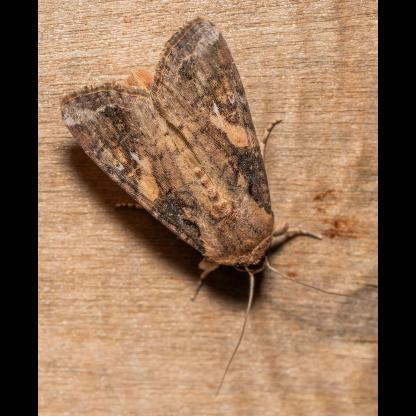Fall Armyworm Moth: (57, 13, 379, 401)
